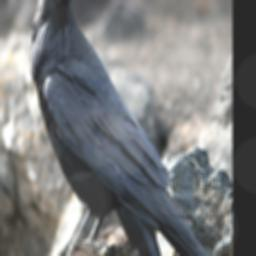Crow: (29, 0, 229, 256)
